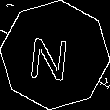N_N: (32, 28, 78, 82)
